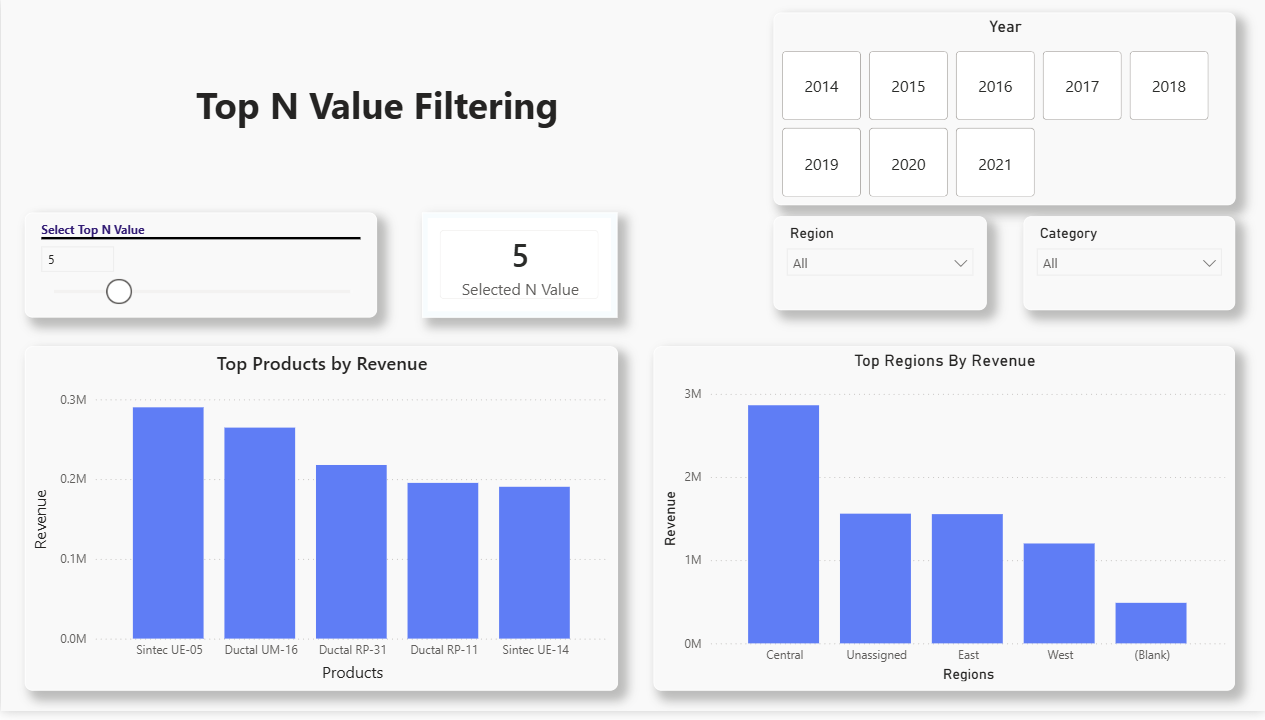

Layout of this report page (visuals, bound fields, positions):
{"tool":"powerbi","page":{"name":"Top N Filtering","canvas":[1280,720],"ordinal":1},"visuals":[{"type":"slicer","fields":{"Values":["Top N Value.Top N Value"]},"box":[24.1,214.7,357.1,106.2],"z":0},{"type":"columnChart","title":"Top Products by Revenue","fields":{"Category":["Dim_Product.Product"],"Y":["_Measures.Top N Products Revenue"]},"box":[24.1,351.1,600.8,348.7],"z":1000},{"type":"columnChart","title":"Top Regions By Revenue","fields":{"Category":["Dim_Geography.Region"],"Y":["_Measures.Top N Regions Revenue"]},"box":[661.1,351.1,588.7,348.7],"z":2000},{"type":"cardVisual","fields":{"Data":["Top N Value.Top N Value Value"]},"box":[427.1,214.7,197.9,106.2],"z":3000},{"type":"advancedSlicerVisual","fields":{"Values":["Dim_Date.Year"]},"box":[781.8,13.3,468.1,195.4],"z":4000},{"type":"slicer","fields":{"Values":["Dim_Geography.Region"]},"box":[781.8,219.6,216,95.3],"z":5000},{"type":"slicer","fields":{"Values":["Dim_Product.Category"]},"box":[1035.1,219.6,214.7,95.3],"z":6000},{"type":"textbox","box":[146,76,470.5,71.2],"z":7000}]}

Visuals, with their boxes in screenshot pixels (x1, y1, x2, y2), scaled from the page's 1280x720 canvas onto the 1265x720 screenshot:
slicer - Top N Value.Top N Value: (24,215,377,321)
"Top Products by Revenue" columnChart: (24,351,618,700)
"Top Regions By Revenue" columnChart: (653,351,1235,700)
cardVisual - Top N Value.Top N Value Value: (422,215,618,321)
advancedSlicerVisual - Dim_Date.Year: (773,13,1235,209)
slicer - Dim_Geography.Region: (773,220,986,315)
slicer - Dim_Product.Category: (1023,220,1235,315)
textbox: (144,76,609,147)
